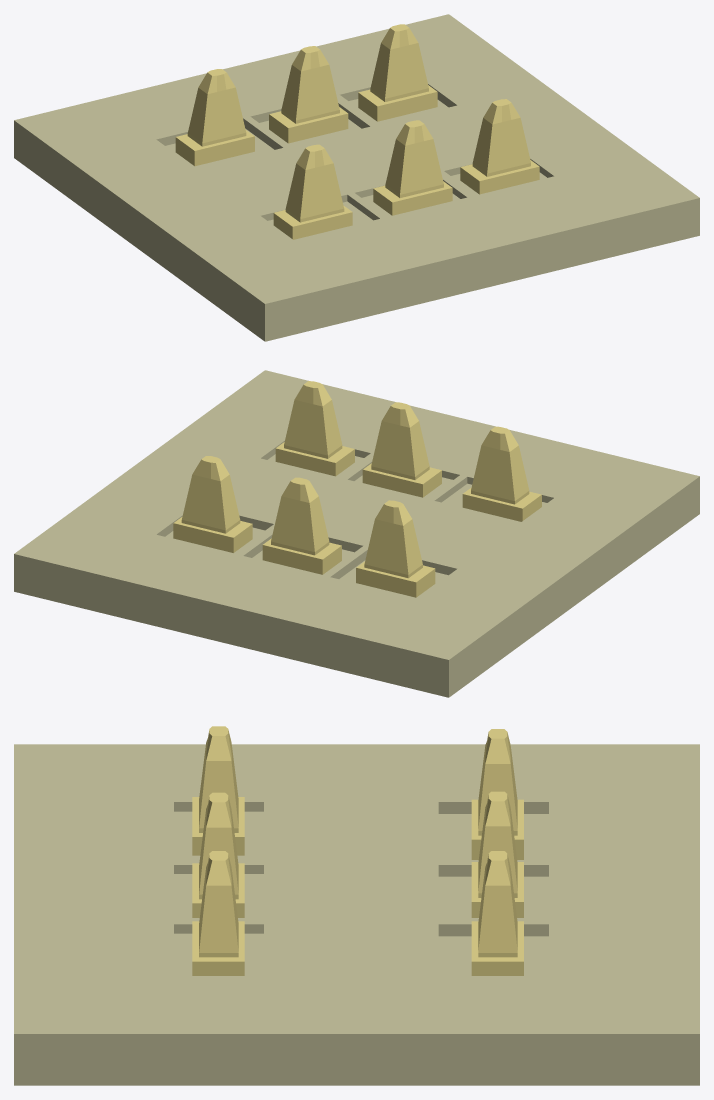
The model's file is Interruptor (1).fbx.
3 views of the same model, one above another, from view 1: azimuth 30°, elevation 25°; view 2: azimuth 150°, elevation 25°; view 3: azimuth 270°, elevation 25° (orthographic). The views are drawn at different scales.
Visible parts, largest first — view 1: Parte Principal, Cube.004, Cube.005, Cube.003, Cube.002, Cube.001, Cube; view 2: Parte Principal, Cube.003, Cube.004, Cube.005, Cube.001, Cube.002, Cube; view 3: Parte Principal, Cube.002, Cube.003, Cube, Cube.005, Cube.004, Cube.001.
Part boxes in pixels (box(x1,y1,x2,y2)): Parte Principal: box(14, 14, 699, 341); Cube.004: box(269, 46, 348, 143); Cube.005: box(175, 69, 254, 166); Cube.003: box(358, 24, 437, 121); Cube.002: box(460, 99, 539, 194); Cube.001: box(373, 120, 452, 215); Cube: box(273, 144, 352, 239); Parte Principal: box(14, 370, 699, 697); Cube.003: box(173, 456, 252, 552); Cube.004: box(262, 477, 341, 574); Cube.005: box(356, 500, 435, 597); Cube.001: box(362, 402, 441, 497); Cube.002: box(275, 381, 354, 476); Cube: box(462, 426, 541, 521); Parte Principal: box(14, 744, 699, 1085); Cube.002: box(192, 851, 244, 975); Cube.003: box(471, 851, 523, 975); Cube: box(192, 726, 244, 855); Cube.005: box(471, 729, 523, 859); Cube.004: box(471, 791, 523, 917); Cube.001: box(192, 792, 244, 917).
Size of the model in its own units: 49.86 by 11.86 by 49.86.
